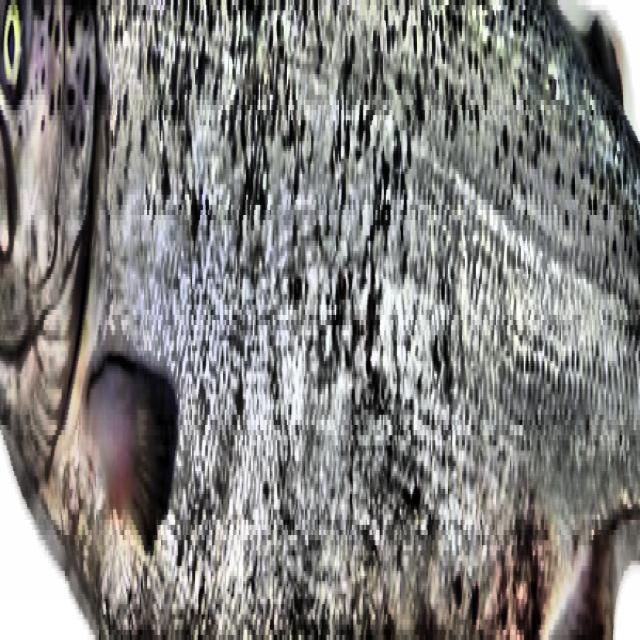mild_red: (81, 0, 639, 637), (447, 502, 629, 637)
